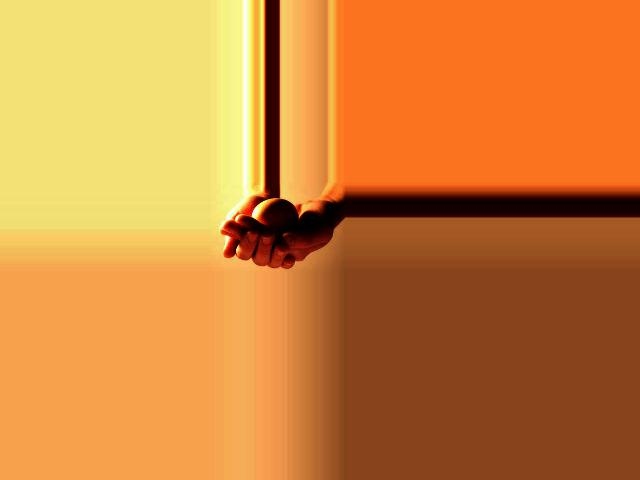egg: (252, 198, 299, 230)
